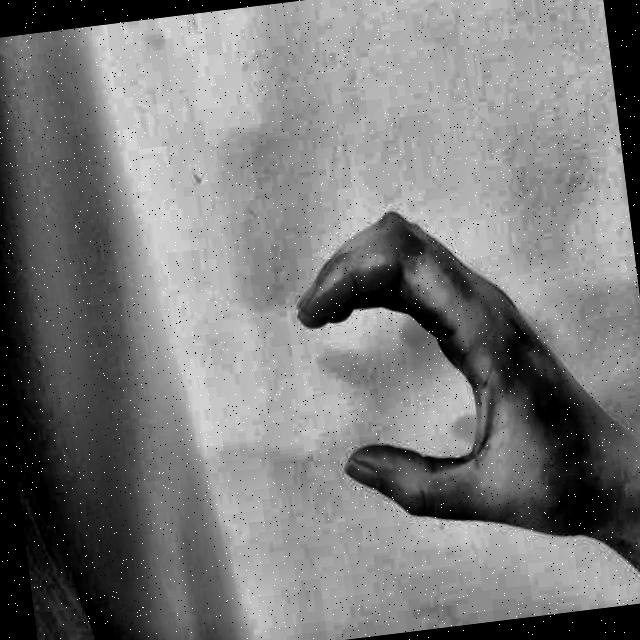A: (259, 154, 592, 594)
